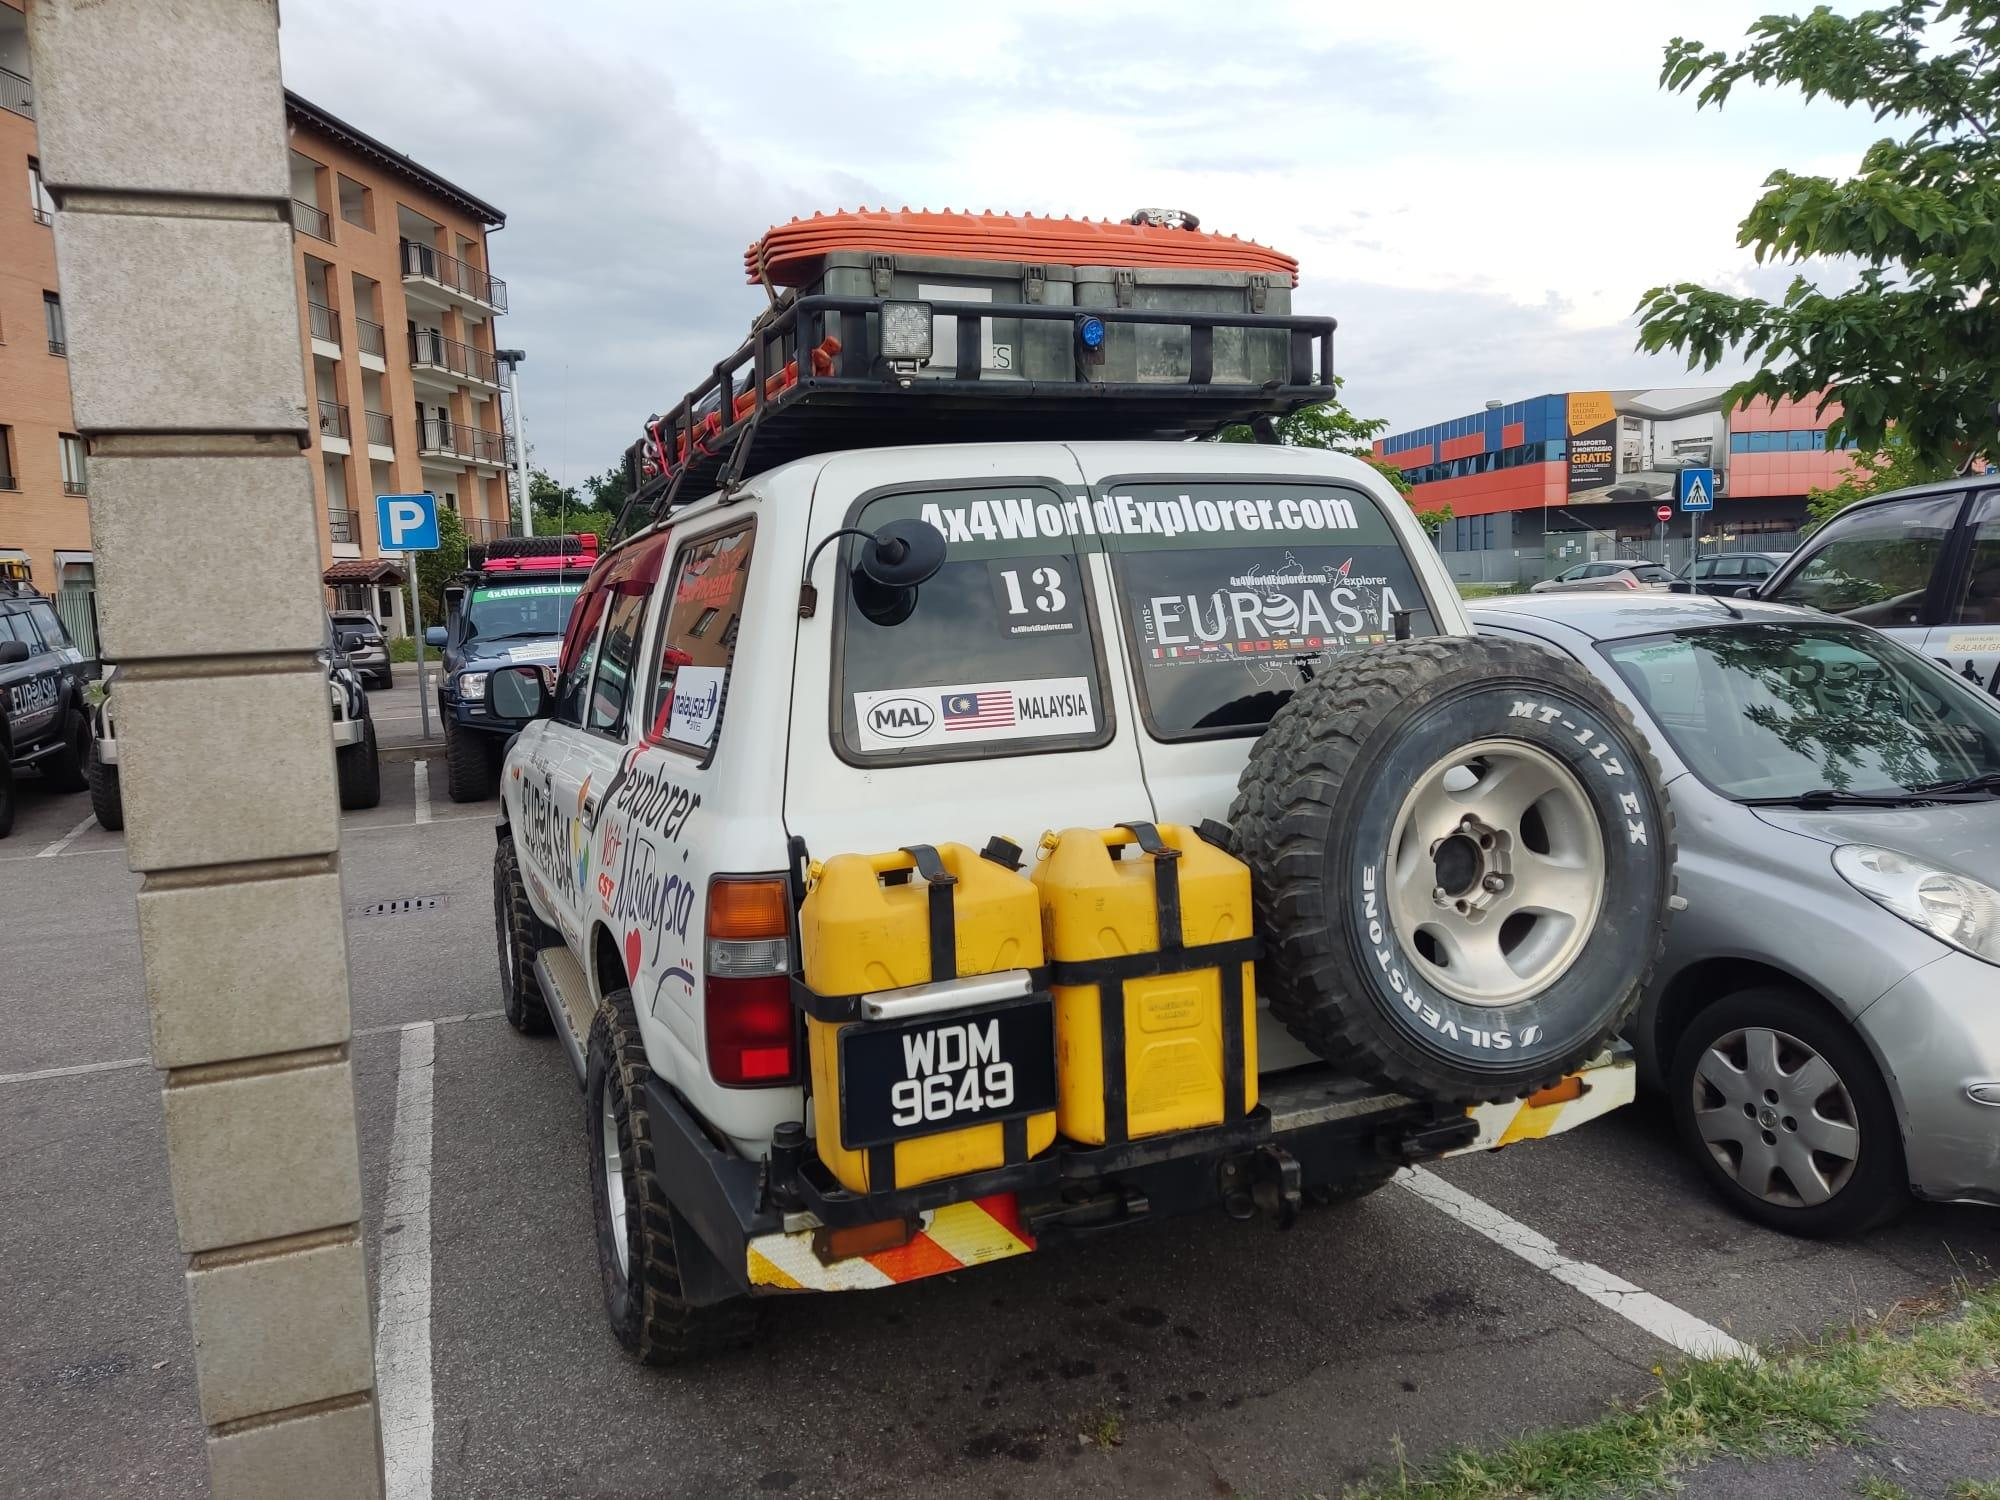License Plate: (848, 1005, 1058, 1148)
